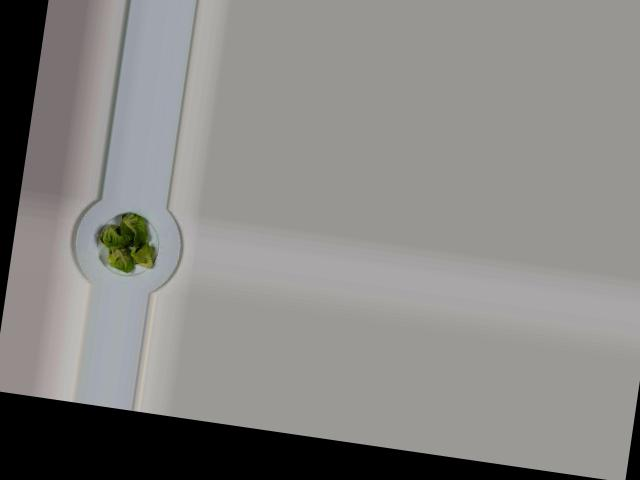lettuce: (93, 203, 163, 275)
